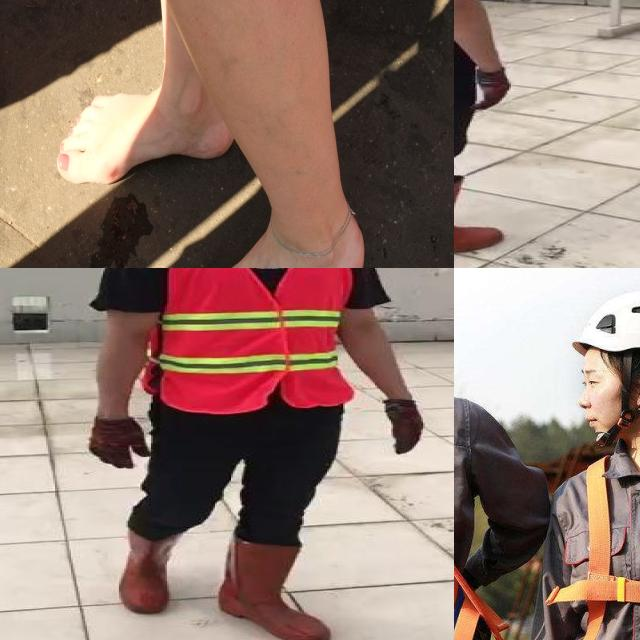Barefoots: (57, 84, 237, 184), (167, 208, 364, 268)
Harness: (559, 444, 640, 640), (454, 381, 508, 640)
boots: (214, 536, 332, 640), (117, 527, 183, 613), (454, 177, 509, 256)
hand_glove: (91, 417, 151, 469), (384, 399, 426, 454), (473, 68, 512, 109)
person: (71, 268, 439, 640), (454, 0, 537, 268)
vest: (140, 268, 353, 407)
